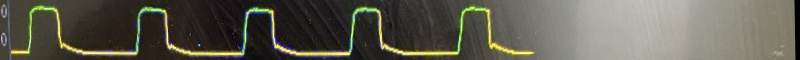normal_pressure: (10, 3, 544, 60)
